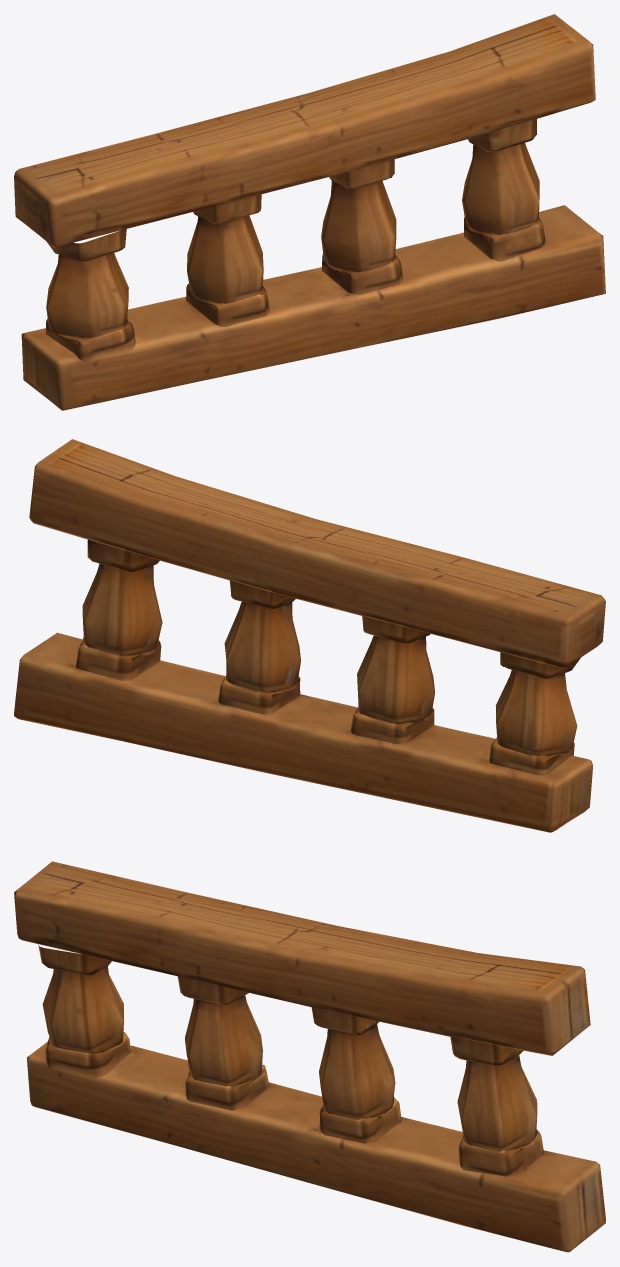
Rendered from rail_straight.glb.
3 views of the same model, one above another, from view 1: azimuth 30°, elevation 25°; view 2: azimuth 150°, elevation 25°; view 3: azimuth 330°, elevation 25° (orthographic).
Parts seen in each view (by area): view 1: rail; view 2: rail; view 3: rail.
Boxes of the visible parts, <box> form: rail: <box>14,14,605,410</box>; rail: <box>14,439,605,832</box>; rail: <box>14,861,605,1252</box>.
Bounding box in the file's own units: 1.8 × 0.805 × 0.252.
1 material, 1 textured.
